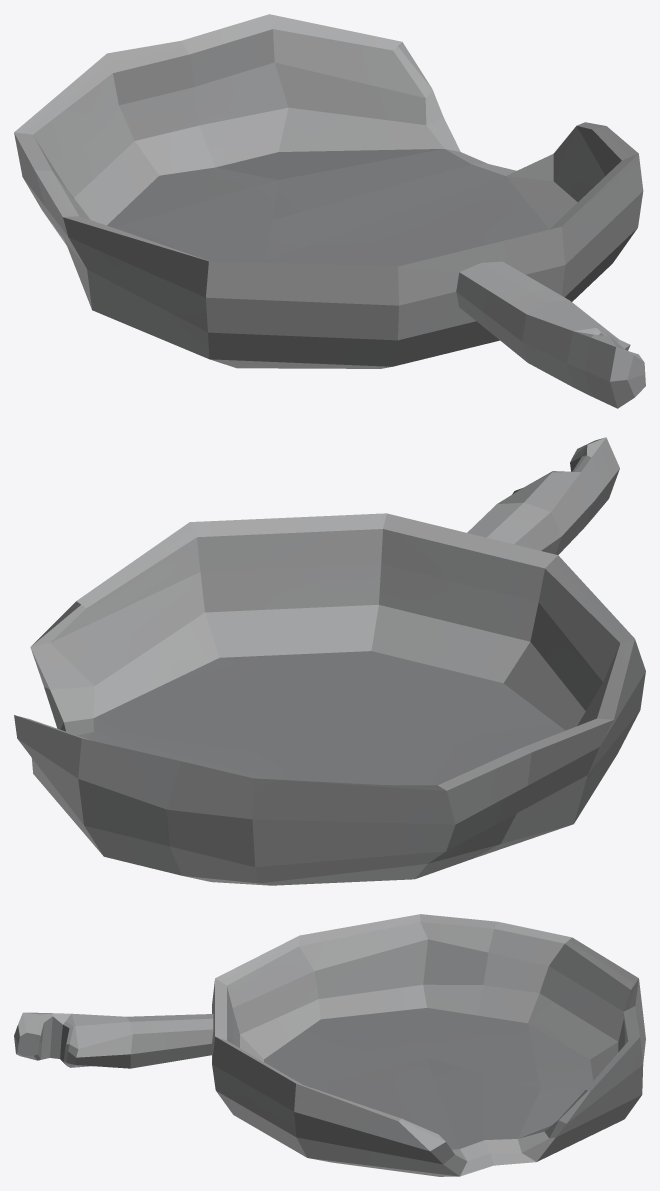
The model's file is pan_broken.glb.
3 views of the same model, one above another, from view 1: azimuth 30°, elevation 25°; view 2: azimuth 150°, elevation 25°; view 3: azimuth 270°, elevation 25° (orthographic). The views are drawn at different scales.
Parts seen in each view (by area): view 1: pan_broken; view 2: pan_broken; view 3: pan_broken.
Part boxes in pixels (x1,y1,x2,y2): pan_broken: (14,14,645,408); pan_broken: (14,437,645,885); pan_broken: (14,914,645,1176).
Bounding box in the file's own units: 0.4401 × 0.1151 × 0.606.
1 material, 1 textured.
